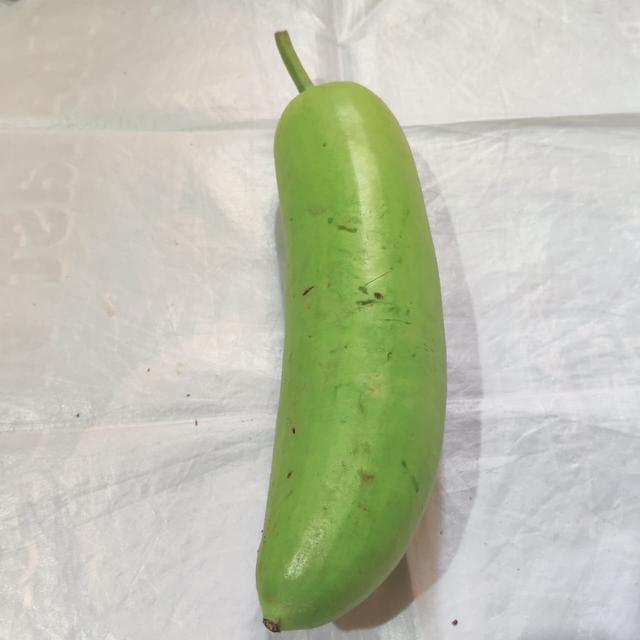Organik: (259, 36, 449, 634)
